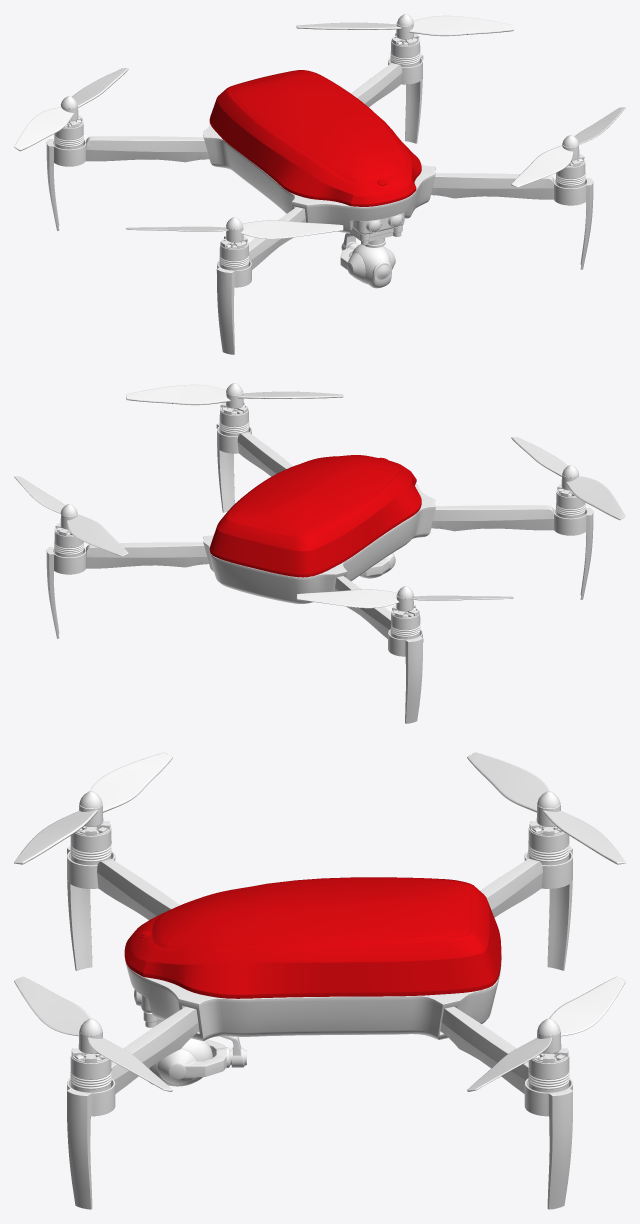
The model's file is drone_2.glb.
The picture shows the model from 3 angles, top to bottom: view 1: azimuth 30°, elevation 25°; view 2: azimuth 150°, elevation 25°; view 3: azimuth 270°, elevation 25°; orthographic projection. The views are drawn at different scales.
Visible parts, largest first — view 1: upper_body.113, lower_body.111, leg_2.124, leg_4.126, leg_1.123, prop_3.133, leg_3.125, prop_1.127, prop_2.130, camera.119, prop_4.136, motor_1.129 (+4 smaller); view 2: upper_body.113, lower_body.111, leg_1.123, leg_3.125, leg_2.124, prop_4.136, leg_4.126, prop_2.130, prop_1.127, prop_3.133, motor_2.132, motor_4.138 (+2 smaller); view 3: upper_body.113, lower_body.111, leg_4.126, leg_3.125, leg_1.123, leg_2.124, prop_1.127, prop_2.130, prop_3.133, prop_4.136, camera.119, motor_3.135 (+3 smaller).
Part boxes in pixels (x1,y1,x2,y2): upper_body.113: [209, 70, 421, 206]; lower_body.111: [203, 122, 435, 234]; leg_2.124: [46, 136, 209, 230]; leg_4.126: [431, 173, 593, 269]; leg_1.123: [216, 207, 305, 354]; prop_3.133: [296, 15, 513, 39]; leg_3.125: [351, 54, 423, 143]; prop_1.127: [126, 220, 343, 242]; prop_2.130: [14, 68, 128, 151]; camera.119: [340, 232, 395, 288]; prop_4.136: [511, 107, 625, 187]; motor_1.129: [219, 236, 249, 270]; upper_body.113: [209, 455, 421, 577]; lower_body.111: [203, 483, 435, 603]; leg_1.123: [431, 505, 593, 599]; leg_3.125: [46, 542, 208, 638]; leg_2.124: [334, 576, 423, 723]; prop_4.136: [126, 384, 343, 408]; leg_4.126: [216, 423, 292, 512]; prop_2.130: [296, 589, 513, 611]; prop_1.127: [511, 437, 625, 520]; prop_3.133: [14, 476, 128, 556]; motor_2.132: [390, 605, 420, 639]; motor_4.138: [219, 402, 249, 436]; upper_body.113: [124, 877, 501, 998]; lower_body.111: [125, 955, 501, 1041]; leg_4.126: [67, 1006, 199, 1209]; leg_3.125: [440, 1006, 572, 1209]; leg_1.123: [67, 846, 179, 970]; leg_2.124: [480, 846, 572, 970]; prop_1.127: [14, 752, 172, 864]; prop_2.130: [467, 752, 625, 864]; prop_3.133: [467, 976, 625, 1091]; prop_4.136: [14, 976, 172, 1091]; camera.119: [149, 1036, 246, 1086]; motor_3.135: [528, 1048, 569, 1092].
Bounding box in the file's own units: 0.3856 × 0.1011 × 0.2955.
